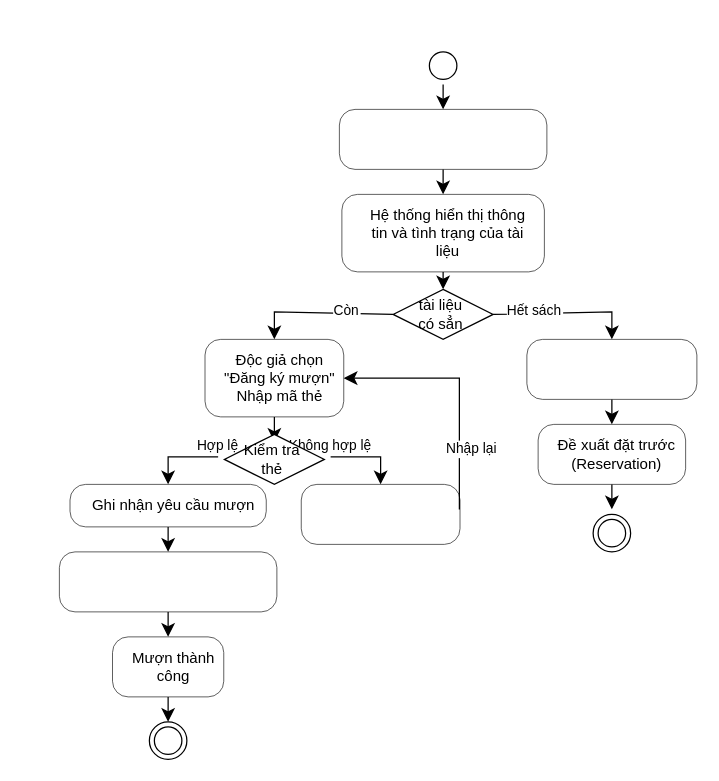
This 719x781 diagram has some shape labels left out. The shapes that lost their labels are listed below. From the top down, each one's centre as x and y in pixels, then its label:
(442,138): Độc giả tìm kiếm Chọn tài liệu muốn mượn
(611,368): Hệ thống thông báo tài liệu đã hết
(380,514): Thông báo mã thẻ không hợp lệ
(167,581): Cập nhật trạng thái tài liệu thành "Đang mượn"
